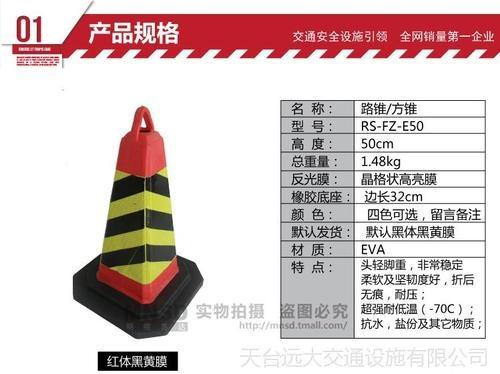cone_barrel: (78, 110, 198, 322)
